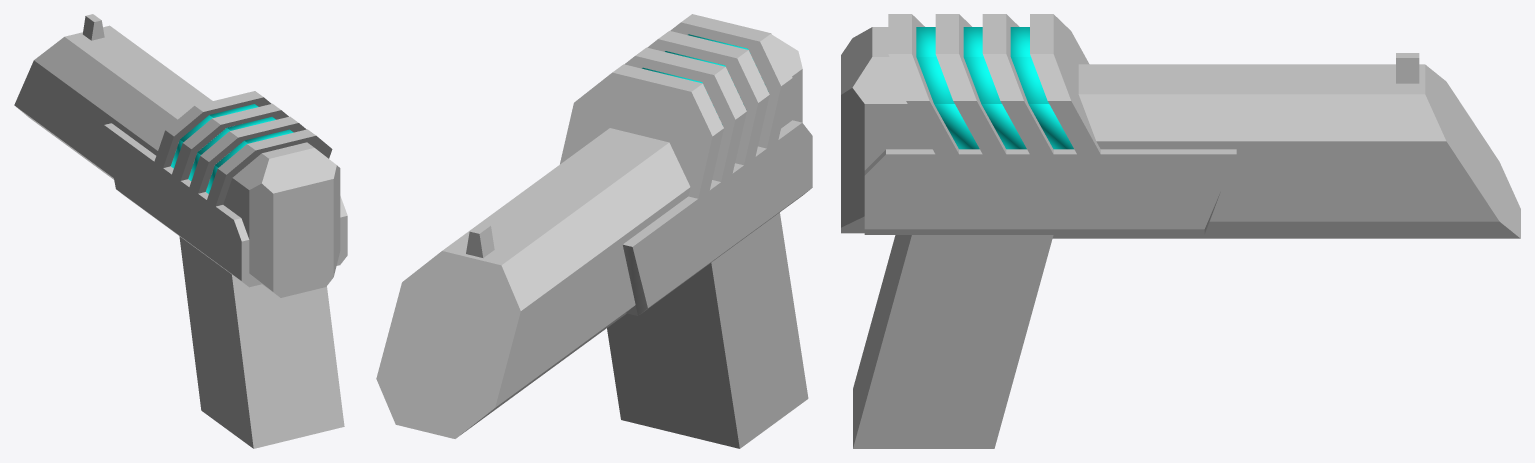
Rendered from Gun.obj.
3 views of the same model, side by side, from view 1: azimuth 30°, elevation 25°; view 2: azimuth 150°, elevation 25°; view 3: azimuth 270°, elevation 25° (orthographic). The views are drawn at different scales.
Parts seen in each view (by area): view 1: Body, Glow; view 2: Body; view 3: Body, Glow.
Part boxes in pixels (bbox=[...]): Body: bbox=[14, 14, 347, 448]; Glow: bbox=[171, 104, 293, 193]; Body: bbox=[376, 14, 812, 448]; Body: bbox=[841, 14, 1520, 448]; Glow: bbox=[916, 27, 1073, 149].
Bounding box in the file's own units: 0.4375 × 1.12 × 1.8.
